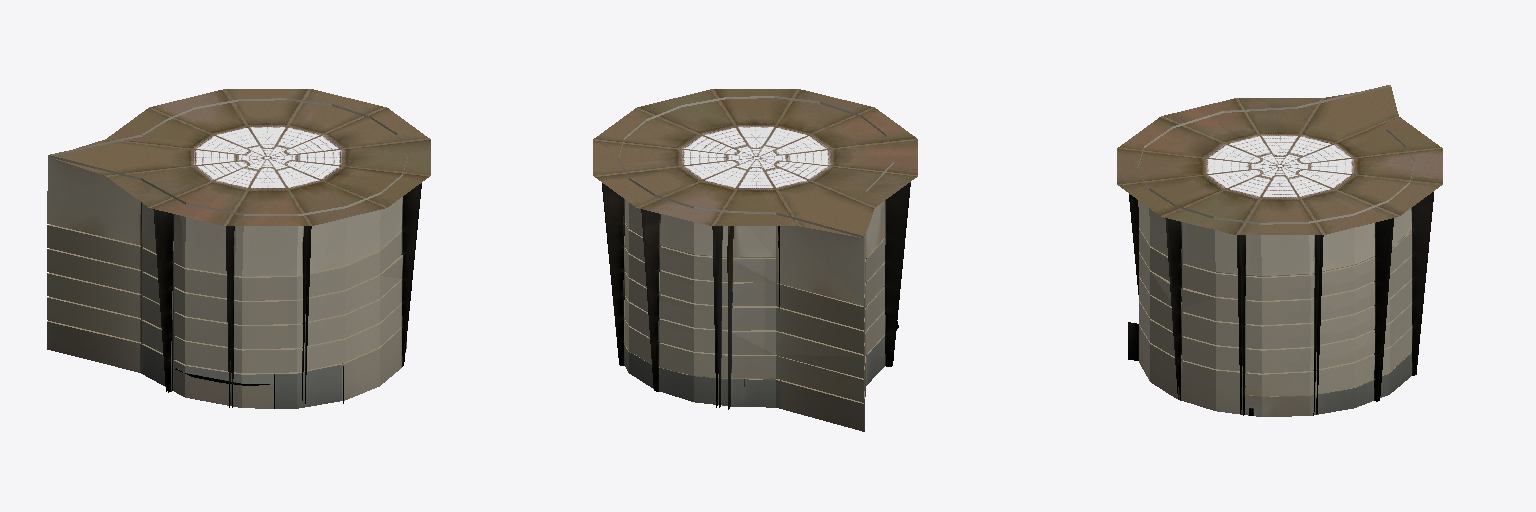
3 renders of one model, left to right at view 1: azimuth 30°, elevation 25°; view 2: azimuth 150°, elevation 25°; view 3: azimuth 270°, elevation 25°, orthographic.
Parts seen in each view (by area): view 1: temp_mesh_02_temp_roof_polySurface31_mesh_02; view 2: temp_mesh_02_temp_roof_polySurface31_mesh_02; view 3: temp_mesh_02_temp_roof_polySurface31_mesh_02.
Part boxes in pixels (x1,y1,x2,y2): temp_mesh_02_temp_roof_polySurface31_mesh_02: (47, 89, 430, 408); temp_mesh_02_temp_roof_polySurface31_mesh_02: (593, 89, 917, 431); temp_mesh_02_temp_roof_polySurface31_mesh_02: (1117, 85, 1442, 416).
Size of the model in its own units: 31.97 by 19.47 by 29.43.
2 materials, 1 textured.